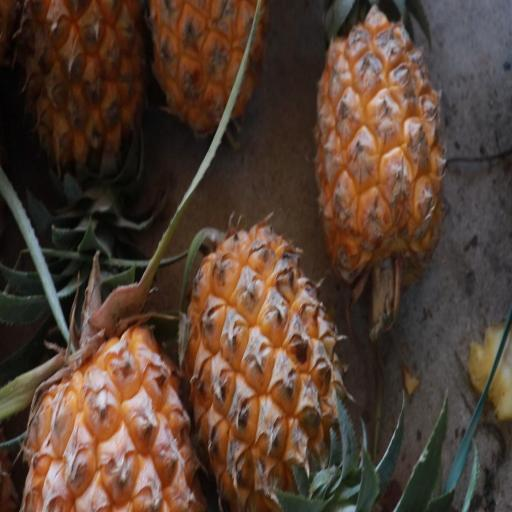Pineapple - v8 v1: (177, 180, 348, 512), (22, 250, 204, 512), (313, 0, 454, 300), (20, 0, 152, 201), (147, 0, 275, 135)
